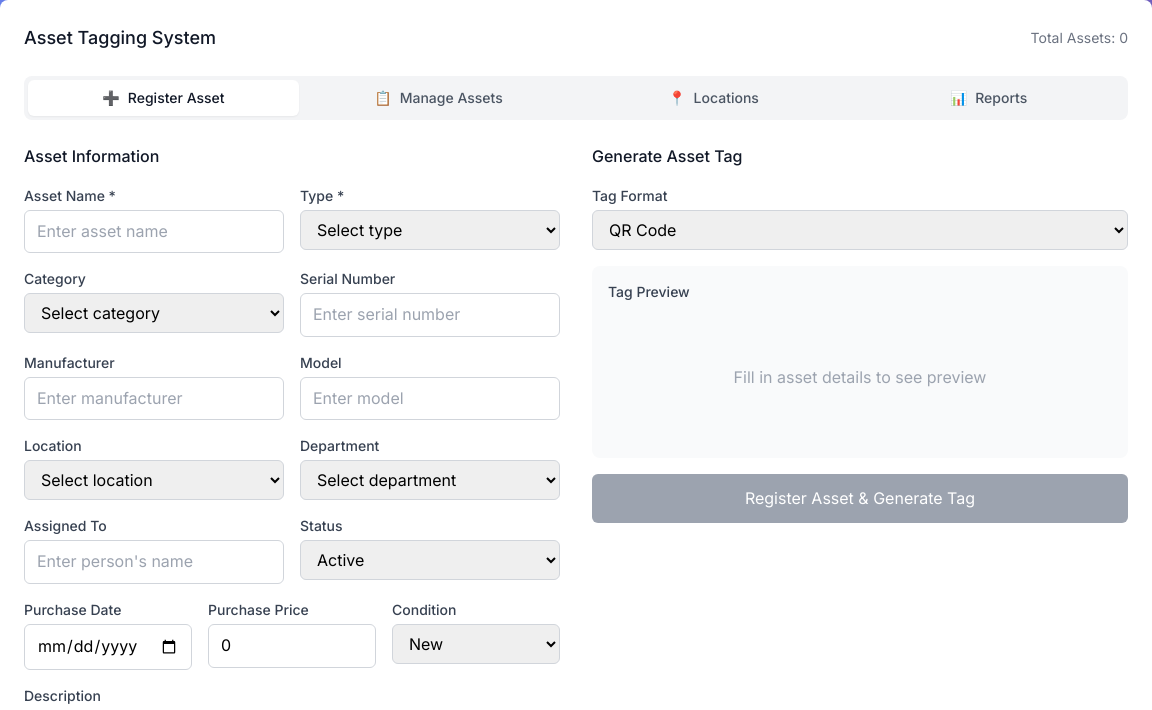
Test: AssetTaggingSystem › shows empty state when no assets exist
Go to manage view
Click the button "📋Manage Assets".
click(438, 98)  # box [303, 80, 574, 116]
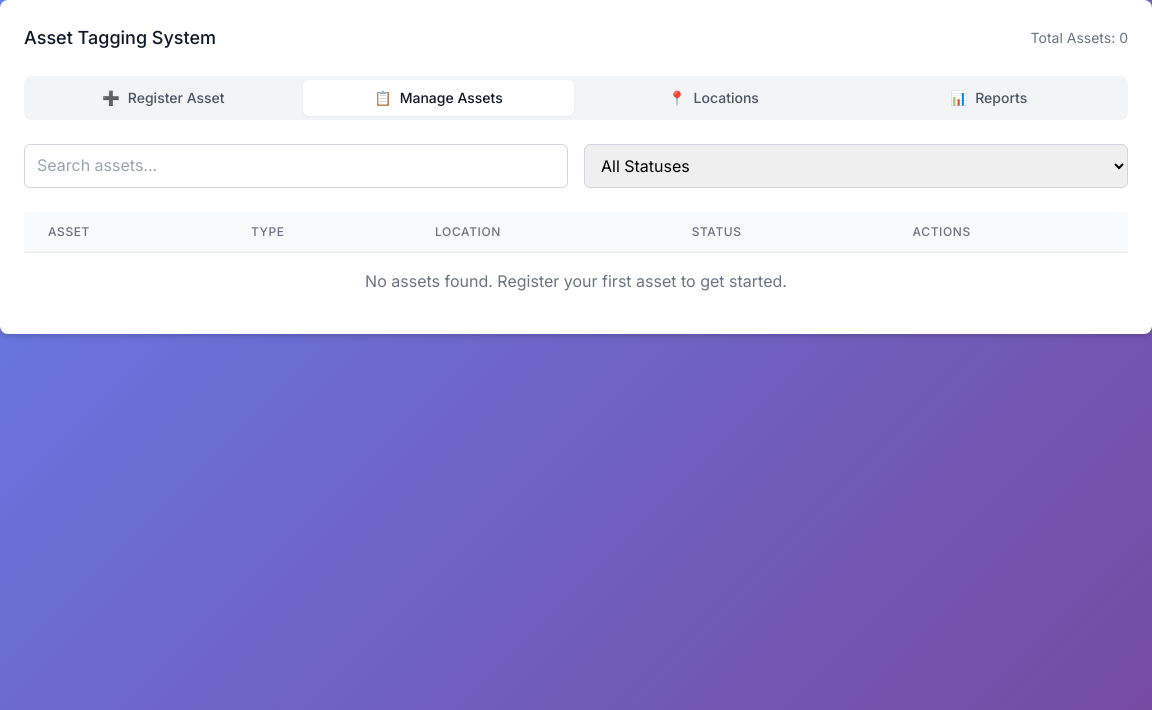
Expected: the text "No assets found. Register your first asset to get started." is shown, [24, 252, 1128, 310]
